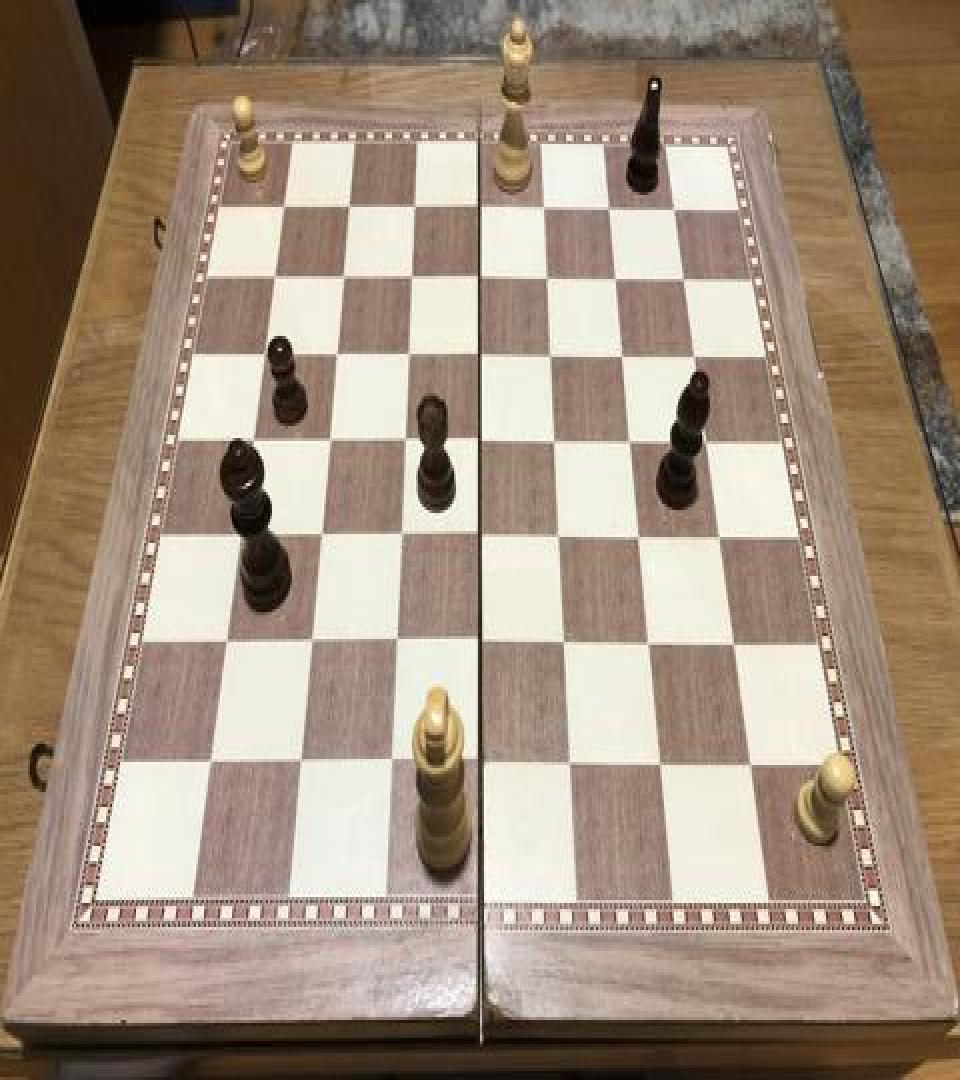xcorner: (636, 625, 660, 662), (551, 625, 575, 662), (467, 625, 491, 662), (737, 748, 761, 785), (646, 748, 670, 785), (468, 189, 492, 225), (404, 189, 428, 225), (340, 189, 364, 225), (276, 189, 300, 225), (672, 258, 696, 294), (604, 258, 628, 294), (536, 258, 560, 294), (468, 258, 492, 294), (682, 336, 706, 372), (610, 336, 634, 372), (539, 336, 563, 372), (468, 336, 492, 372), (397, 336, 421, 372), (326, 336, 350, 372), (256, 336, 280, 372), (694, 422, 718, 458), (618, 422, 642, 458), (542, 422, 566, 458), (467, 422, 491, 458), (393, 422, 417, 458), (318, 422, 342, 458), (244, 422, 268, 458), (707, 518, 731, 554), (626, 518, 650, 554), (546, 518, 570, 554), (467, 518, 491, 554), (388, 518, 412, 554), (309, 518, 333, 554), (231, 518, 255, 554), (721, 627, 745, 663), (383, 624, 407, 660), (299, 624, 323, 660), (216, 624, 240, 660), (556, 747, 580, 783), (466, 746, 490, 782), (377, 746, 401, 782), (288, 744, 312, 780), (200, 744, 224, 780), (663, 188, 687, 223), (598, 188, 622, 223), (533, 188, 557, 223), (400, 260, 424, 295), (333, 260, 357, 295), (266, 260, 290, 295)
